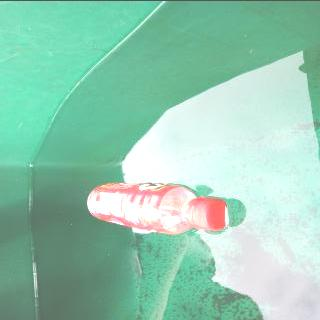bottle: (84, 182, 228, 236)
